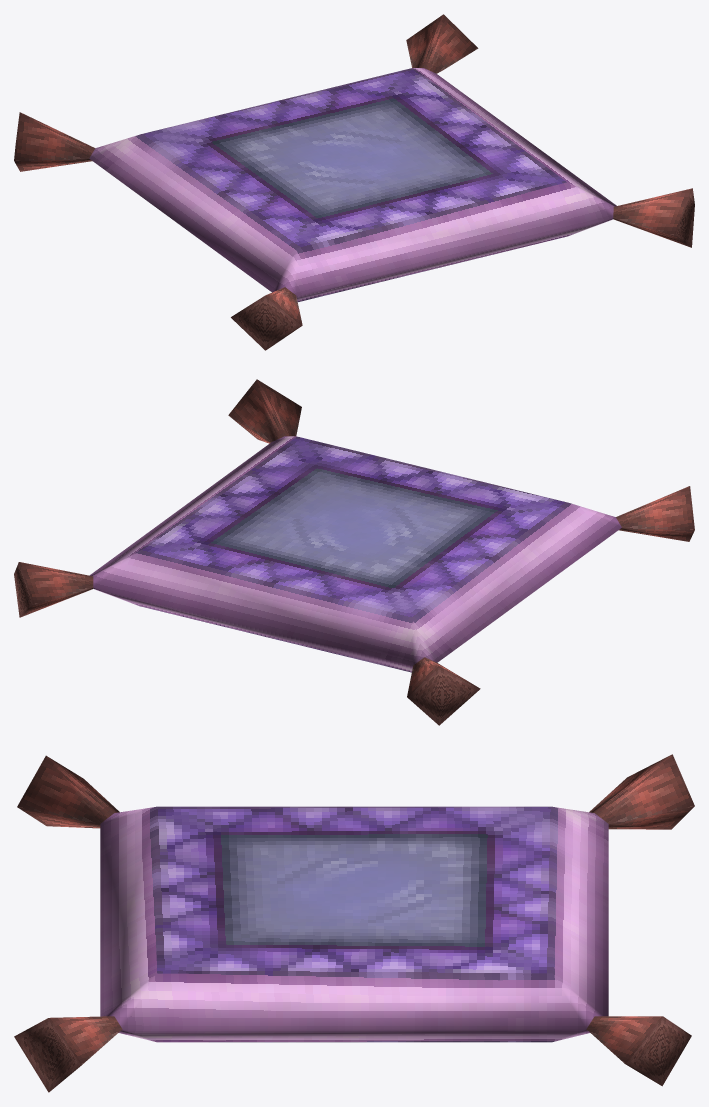
File: a_sctr03.glb
The picture shows the model from 3 angles, top to bottom: view 1: azimuth 30°, elevation 25°; view 2: azimuth 150°, elevation 25°; view 3: azimuth 270°, elevation 25°; orthographic projection. The views are drawn at different scales.
Parts seen in each view (by area): view 1: a_sctr03; view 2: a_sctr03; view 3: a_sctr03.
Boxes of the visible parts, bbox=[...] form: a_sctr03: bbox=[14, 14, 694, 350]; a_sctr03: bbox=[14, 379, 694, 725]; a_sctr03: bbox=[14, 754, 694, 1092].
Size of the model in its own units: 1.03 by 0.1259 by 1.03.
Materials: 1 (1 with a texture image).
